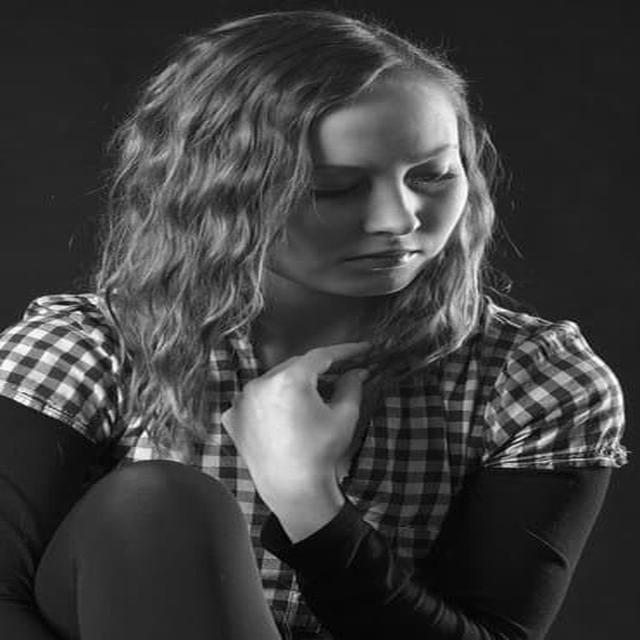Sadness: (283, 93, 468, 297)
